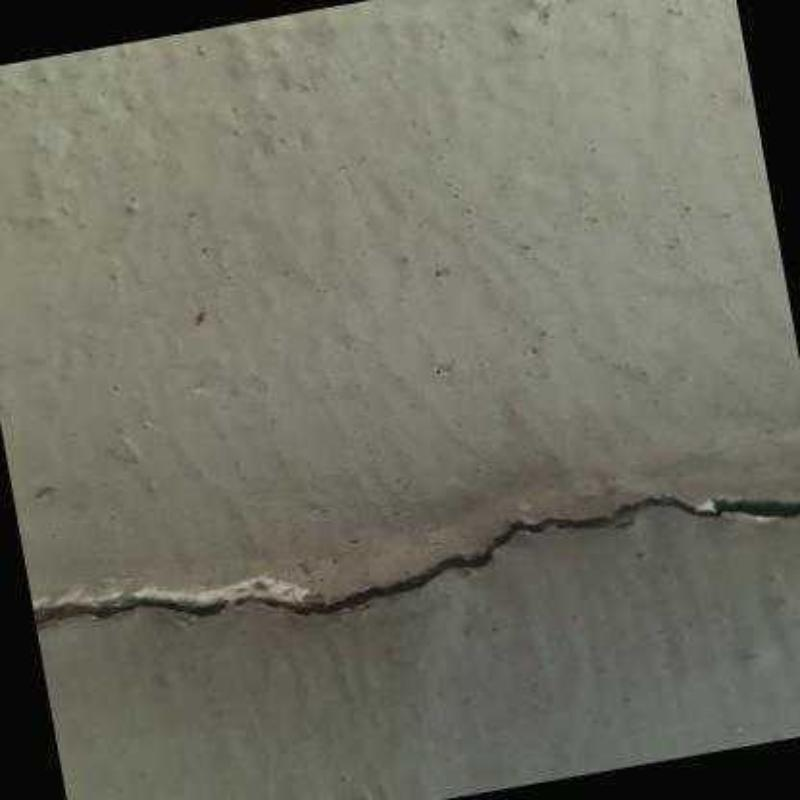crack: (32, 499, 800, 634)
